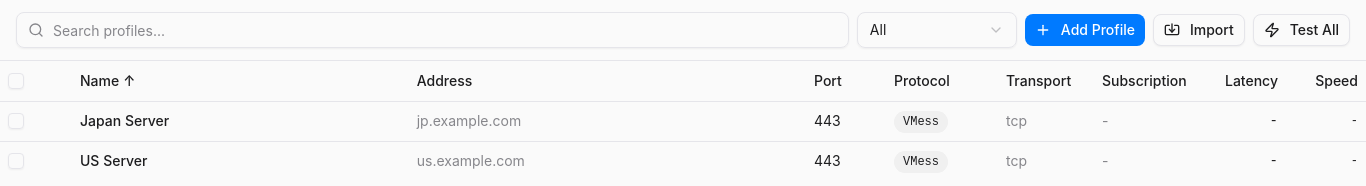
ProfilesPage › filters profiles by search query
Expected: the text "Japan Server" is shown, [72,101,409,141]
# Search for Japan
Type "Japan" into the field with placeholder "Search profiles..." at (432, 30), box [16,12,849,48]
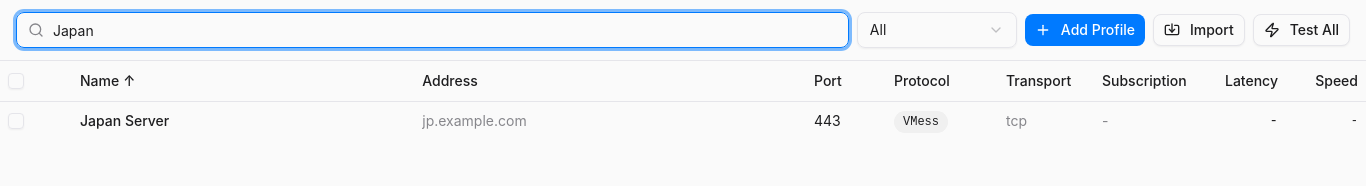
Expected: the text "Japan Server" is shown, [72,101,414,140]
Result: the text "US Server" is gone
